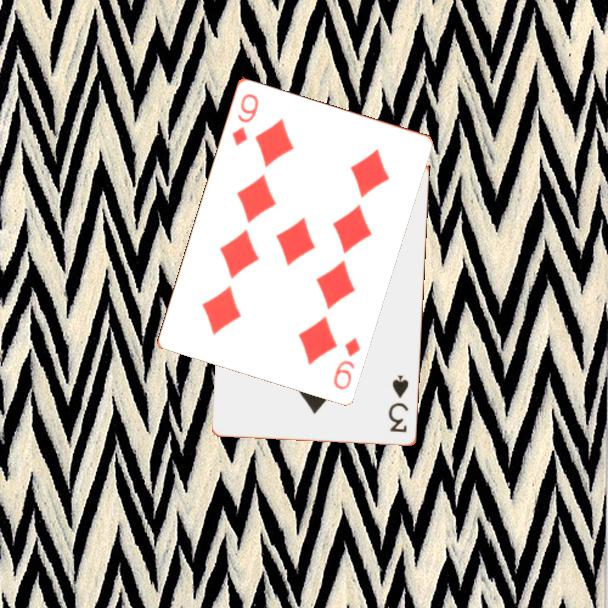d09: (228, 89, 261, 148), (330, 333, 363, 392)
s03: (385, 372, 412, 435)
